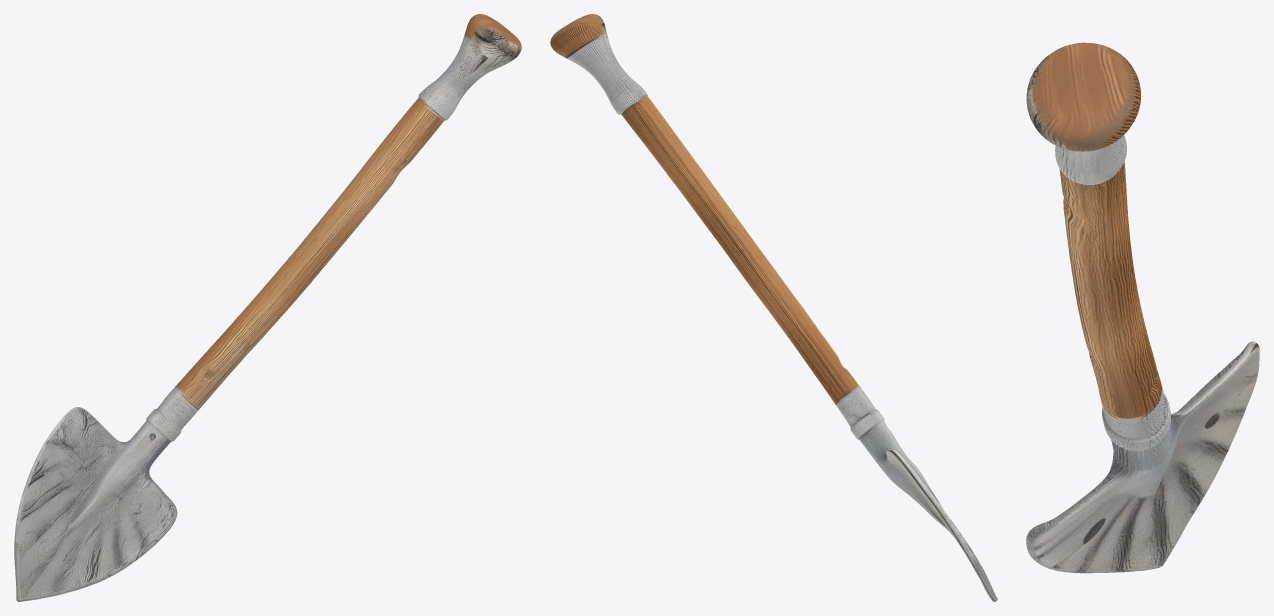
The model's file is wooden-hoe.glb.
The picture shows the model from 3 angles, left to right: view 1: azimuth 30°, elevation 25°; view 2: azimuth 150°, elevation 25°; view 3: azimuth 270°, elevation 25°; orthographic projection. The views are drawn at different scales.
Visible parts, largest first — view 1: Mesh_0.001; view 2: Mesh_0.001; view 3: Mesh_0.001.
Part boxes in pixels (left/top/right/bottom): Mesh_0.001: left=14, top=14, right=521, bottom=601; Mesh_0.001: left=550, top=14, right=997, bottom=601; Mesh_0.001: left=1026, top=42, right=1259, bottom=573.
Bounding box in the file's own units: 1.03 × 1 × 0.2262.
Materials: 1 (1 with a texture image).
